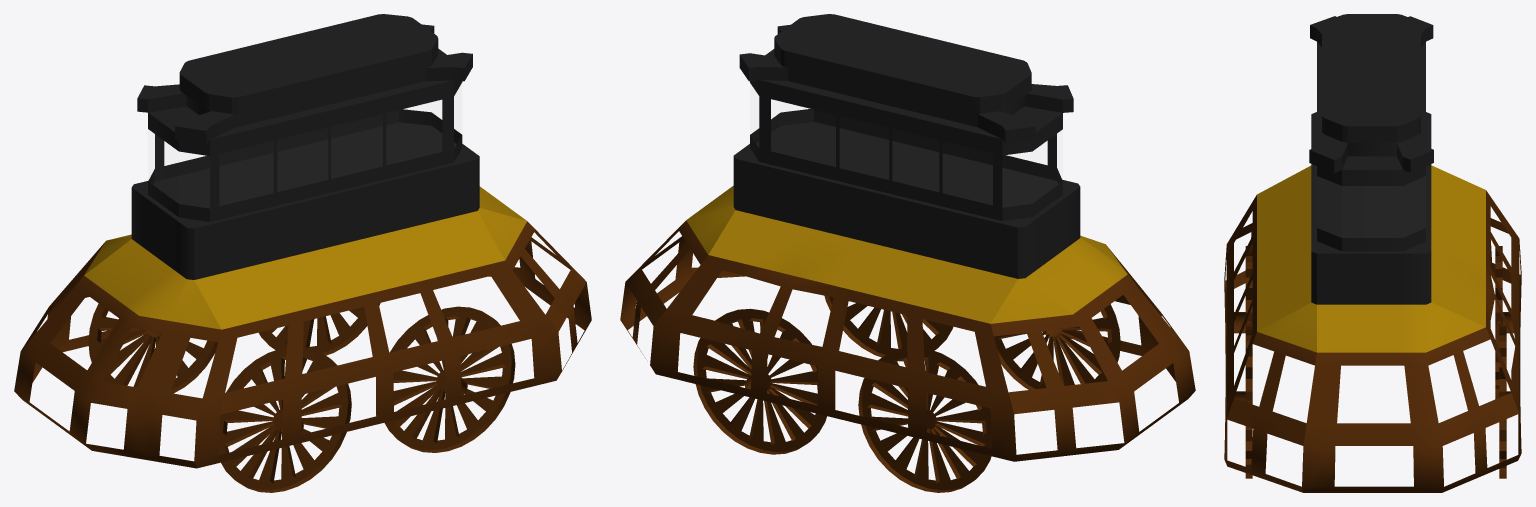
The model's file is Float_Bier.glb.
3 views of the same model, side by side, from view 1: azimuth 30°, elevation 25°; view 2: azimuth 150°, elevation 25°; view 3: azimuth 270°, elevation 25° (orthographic).
Parts seen in each view (by area): view 1: Window; view 2: Window; view 3: Window.
Part boxes in pixels (x1,y1,x2,y2): Window: (14, 14, 591, 492); Window: (620, 14, 1195, 492); Window: (1224, 14, 1521, 492).
Bounding box in the file's own units: 15.98 × 11.09 × 8.2.
